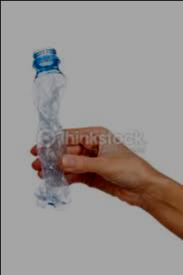Plastic: (29, 44, 73, 211)
